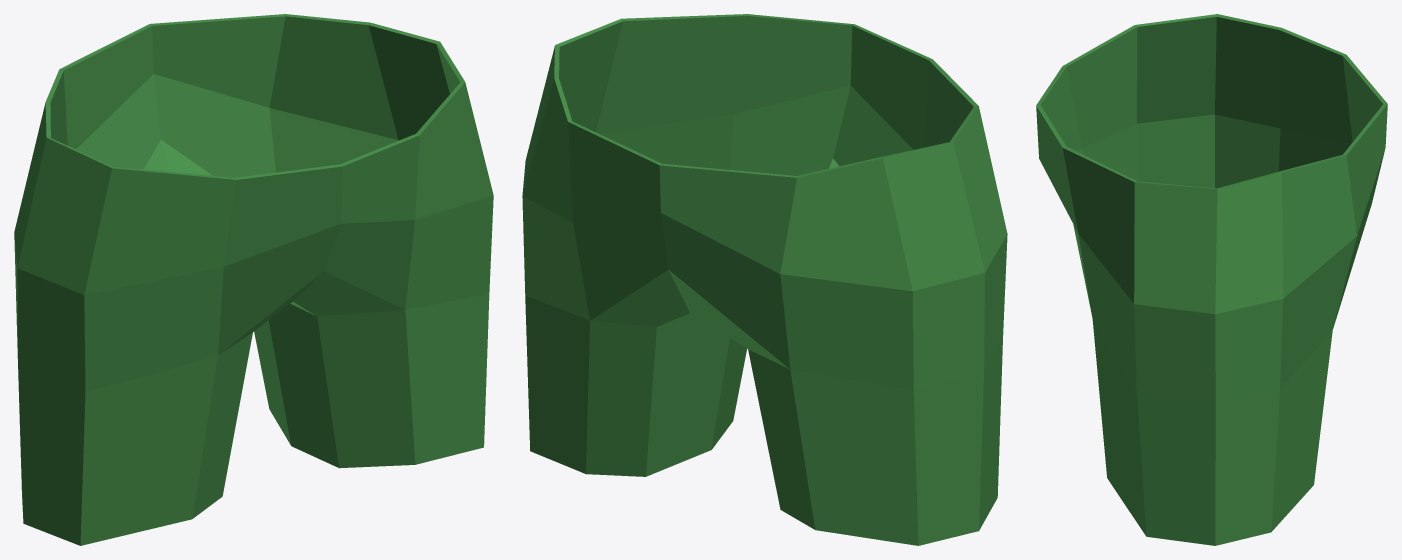
The model's file is Pant1.fbx.
3 renders of one model, left to right at view 1: azimuth 30°, elevation 25°; view 2: azimuth 150°, elevation 25°; view 3: azimuth 270°, elevation 25°, orthographic. The views are drawn at different scales.
Parts seen in each view (by area): view 1: Pant1; view 2: Pant1; view 3: Pant1.
Boxes of the visible parts, x1,y1,x2,y2 form: Pant1: (14,14,493,545); Pant1: (522,14,1007,545); Pant1: (1036,14,1387,545).
Bounding box in the file's own units: 99.8 × 79.97 × 73.36.
